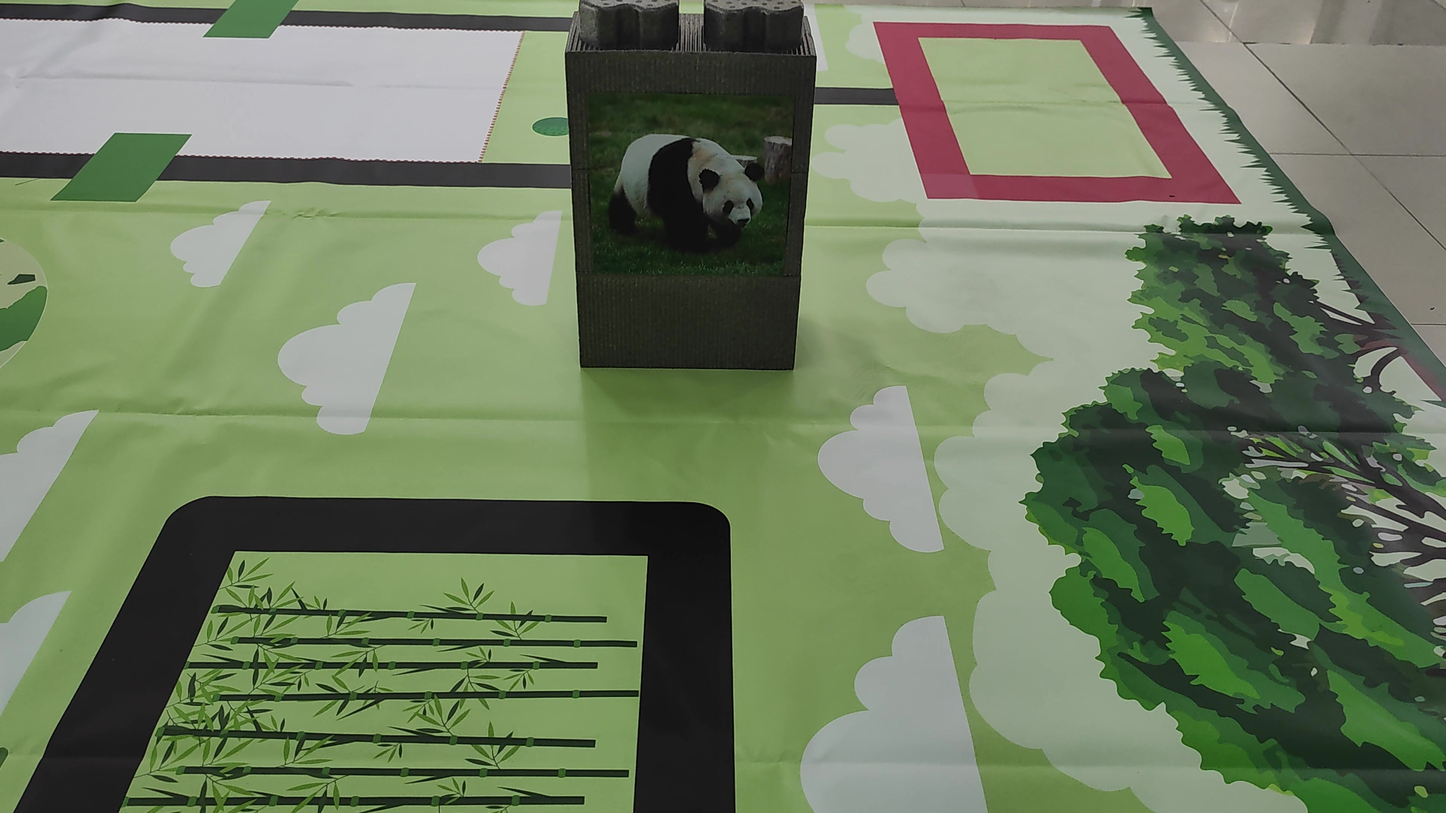monkey: (599, 106, 804, 273)
